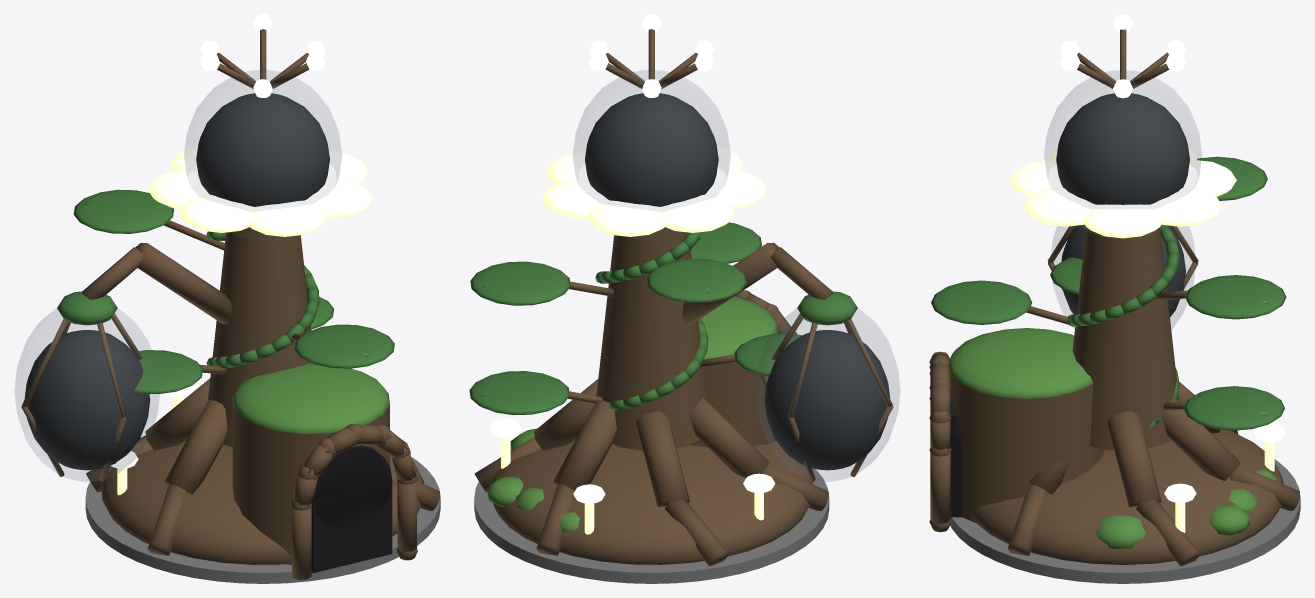
The model's file is BLOOM_Vat_T1.glb.
3 renders of one model, left to right at view 1: azimuth 30°, elevation 25°; view 2: azimuth 150°, elevation 25°; view 3: azimuth 270°, elevation 25°, orthographic.
Parts seen in each view (by area): view 1: BLOOM_Vat_T1; view 2: BLOOM_Vat_T1; view 3: BLOOM_Vat_T1.
Part boxes in pixels (<box>): BLOOM_Vat_T1: <box>14,14,440,583</box>; BLOOM_Vat_T1: <box>469,14,900,583</box>; BLOOM_Vat_T1: <box>929,14,1300,583</box>.
Bounding box in the file's own units: 4.5 × 5.38 × 3.66.
